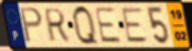5: (145, 5, 172, 47)
E: (120, 7, 151, 45), (93, 6, 123, 45)
P: (18, 6, 44, 45)
Q: (71, 4, 102, 47)
R: (44, 7, 71, 44)
